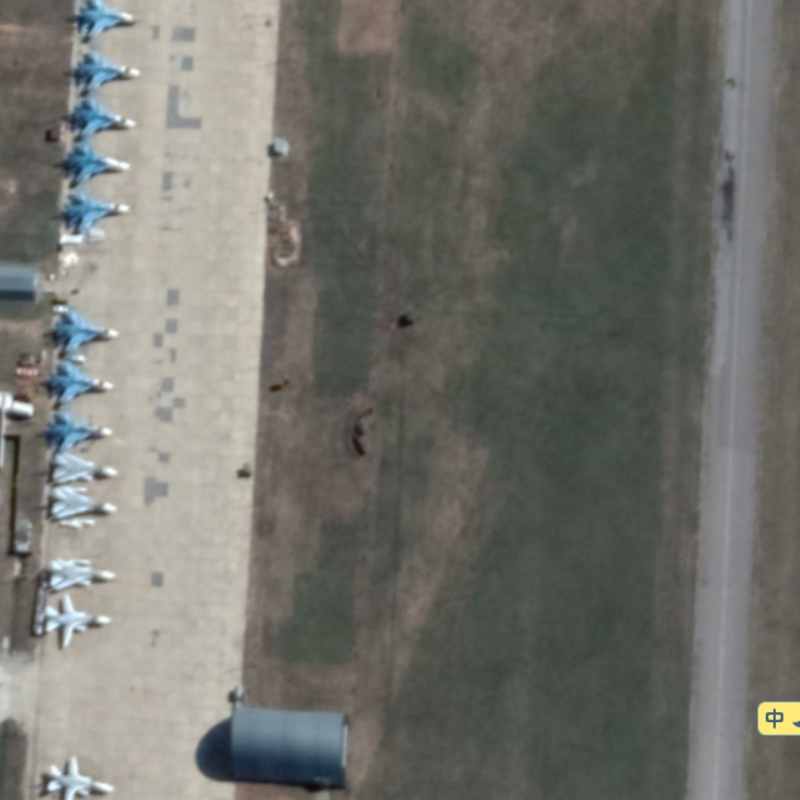A19: (53, 303, 123, 357), (48, 360, 116, 408), (75, 49, 142, 96), (45, 410, 116, 453), (64, 191, 132, 235), (66, 142, 132, 187), (73, 97, 138, 139), (77, 1, 137, 40)
A20: (42, 592, 114, 649), (44, 755, 118, 800), (48, 485, 119, 521), (48, 556, 117, 592), (49, 451, 120, 485)
